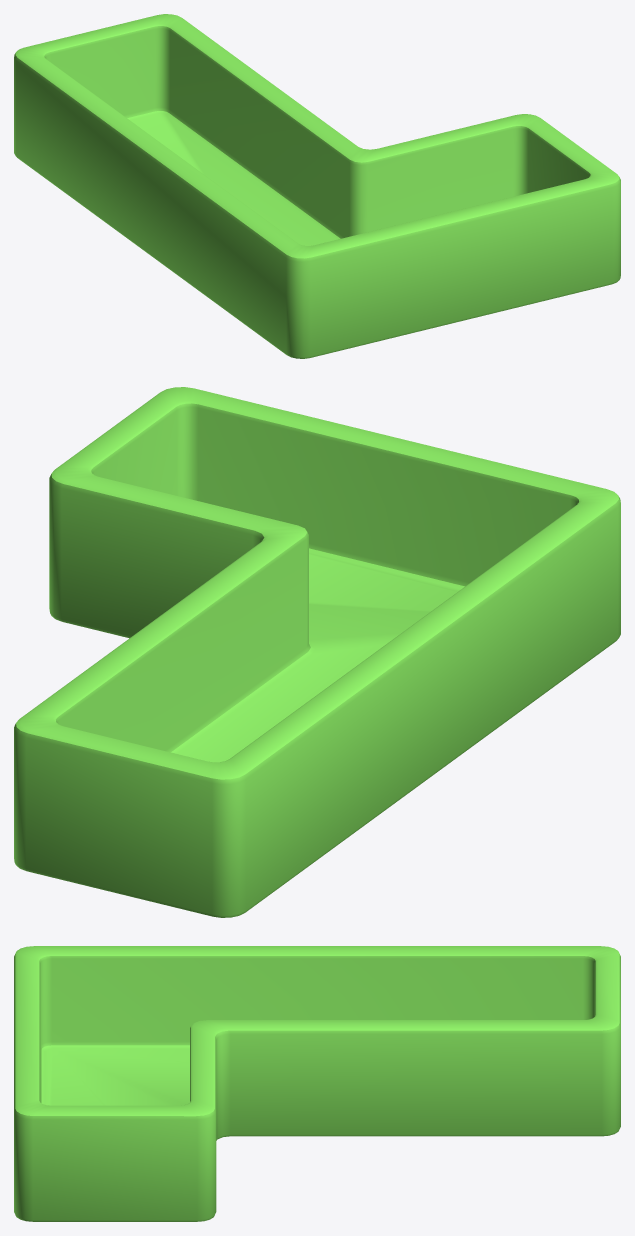
3 views of the same model, one above another, from view 1: azimuth 30°, elevation 25°; view 2: azimuth 150°, elevation 25°; view 3: azimuth 270°, elevation 25° (orthographic). The views are drawn at different scales.
Visible parts, largest first — view 1: Shape_L4; view 2: Shape_L4; view 3: Shape_L4.
Part boxes in pixels (x1,y1,x2,y2): Shape_L4: [14, 14, 620, 358]; Shape_L4: [14, 387, 620, 917]; Shape_L4: [14, 946, 620, 1221].
Size of the model in its own units: 1.7 by 0.5 by 2.55.
